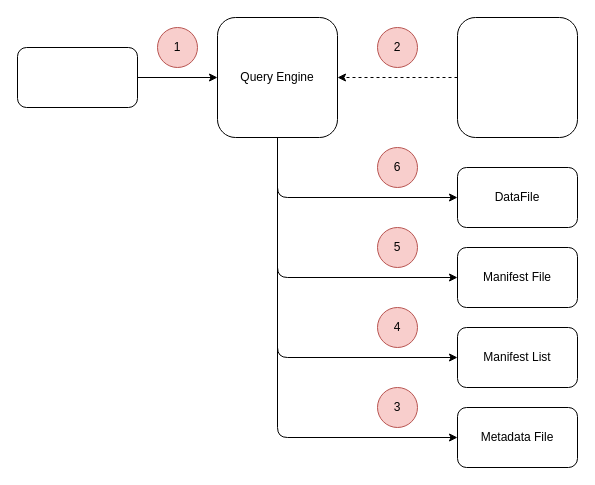
The diagram is 595 pixels wide and 485 high, and some of its shapes have lost their labels. Here are the shapes that lost their labels. From the top down, the centre of each, then its label:
At [77,77]: "Read Operation".
At [517,77]: "Catalog".
